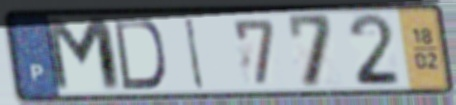2: (345, 11, 403, 88)
7: (286, 13, 338, 91), (229, 16, 277, 88)
D: (111, 17, 169, 92)
I: (183, 15, 207, 92)
M: (40, 16, 127, 96)
